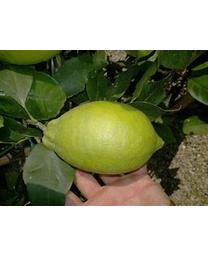lemon: (44, 100, 165, 175)
